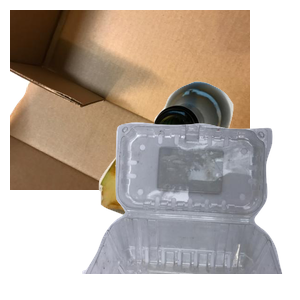cardboard: (10, 10, 250, 190)
glass: (151, 79, 300, 221)
plastic: (80, 120, 300, 300)
trash: (96, 145, 295, 300)
